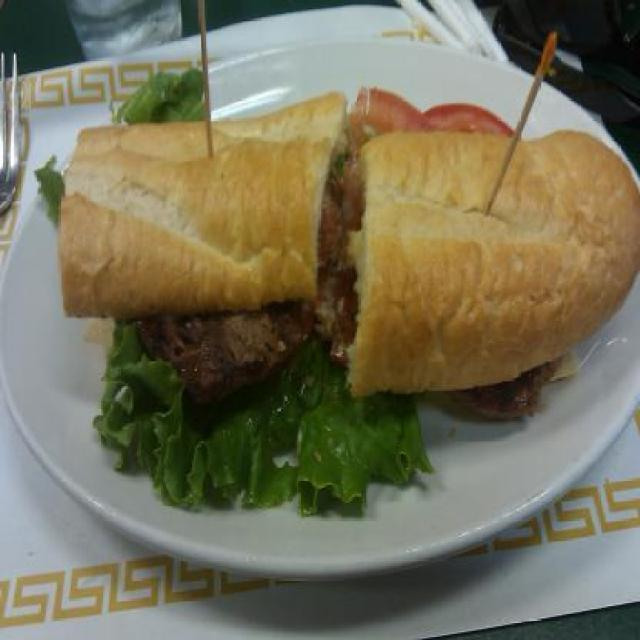Sandwich: (58, 87, 640, 516)
